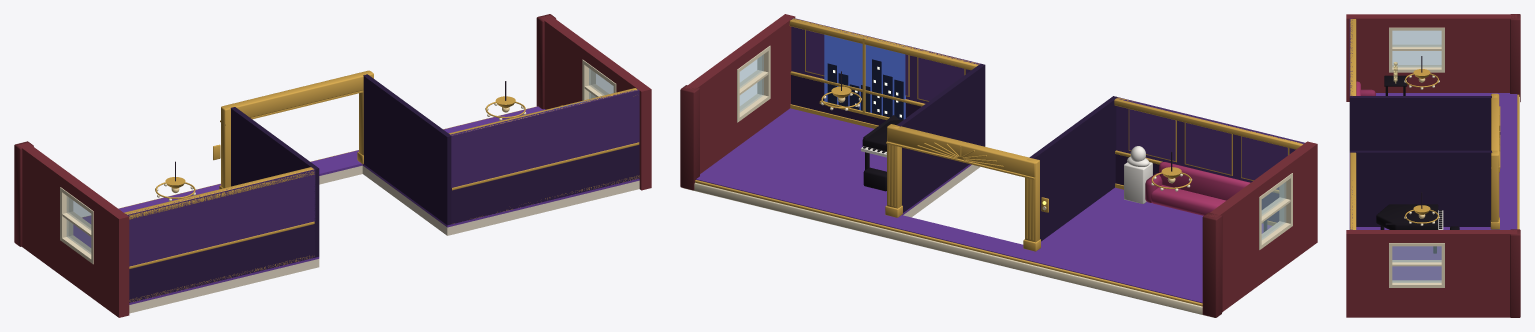
File: Floor_Penthouse.fbx
3 renders of one model, left to right at view 1: azimuth 30°, elevation 25°; view 2: azimuth 150°, elevation 25°; view 3: azimuth 270°, elevation 25°, orthographic. The views are drawn at different scales.
Visible parts, largest first — view 1: Shell; view 2: Shell; view 3: Shell, Glow.
Part boxes in pixels (bbox=[...]): Shell: bbox=[14, 14, 651, 317]; Shell: bbox=[680, 14, 1317, 317]; Shell: bbox=[1346, 14, 1520, 317]; Glow: bbox=[1404, 75, 1439, 225].
Bounding box in the file's own units: 15.92 × 2.82 × 5.3.
